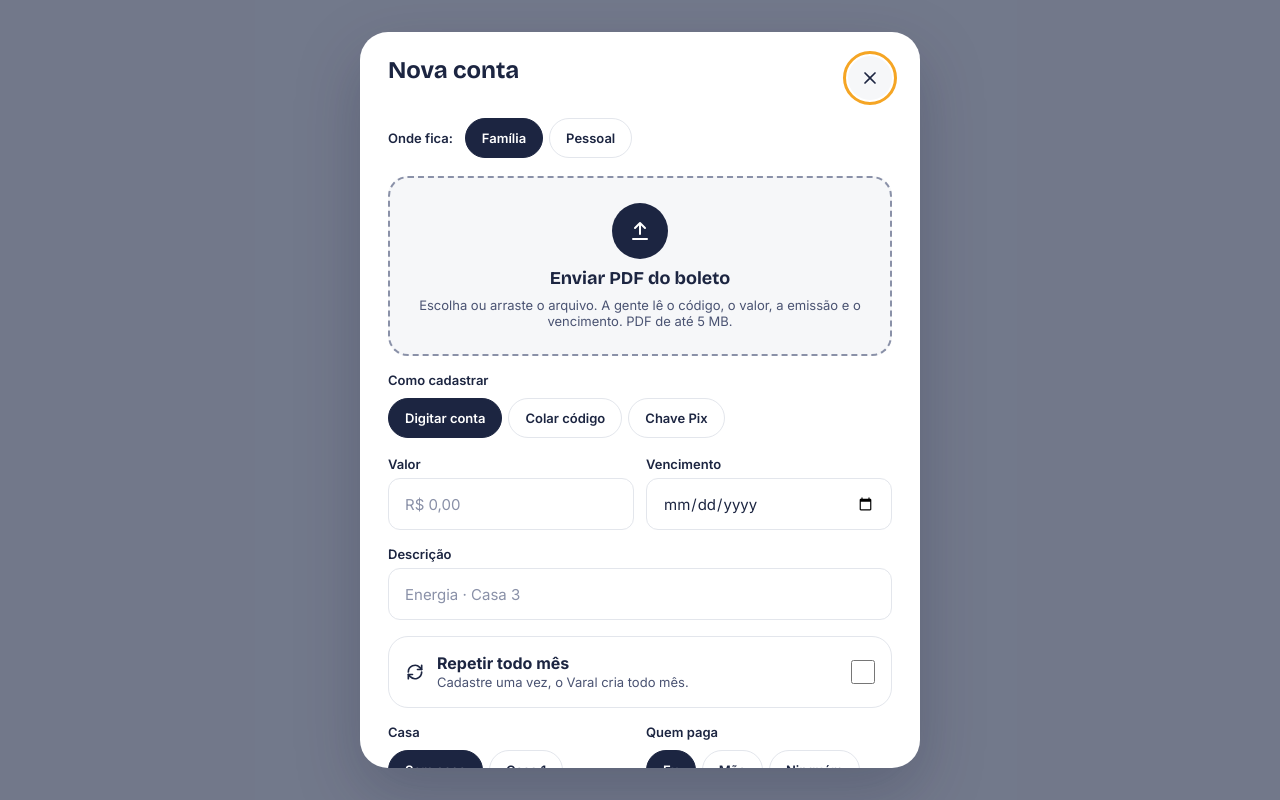
Test case: q19b: the API's 400 message shows next to Quem vê and nothing navigates
Type "287,43" into the field labelled "Valor" at (511, 504), box [405, 479, 617, 529]
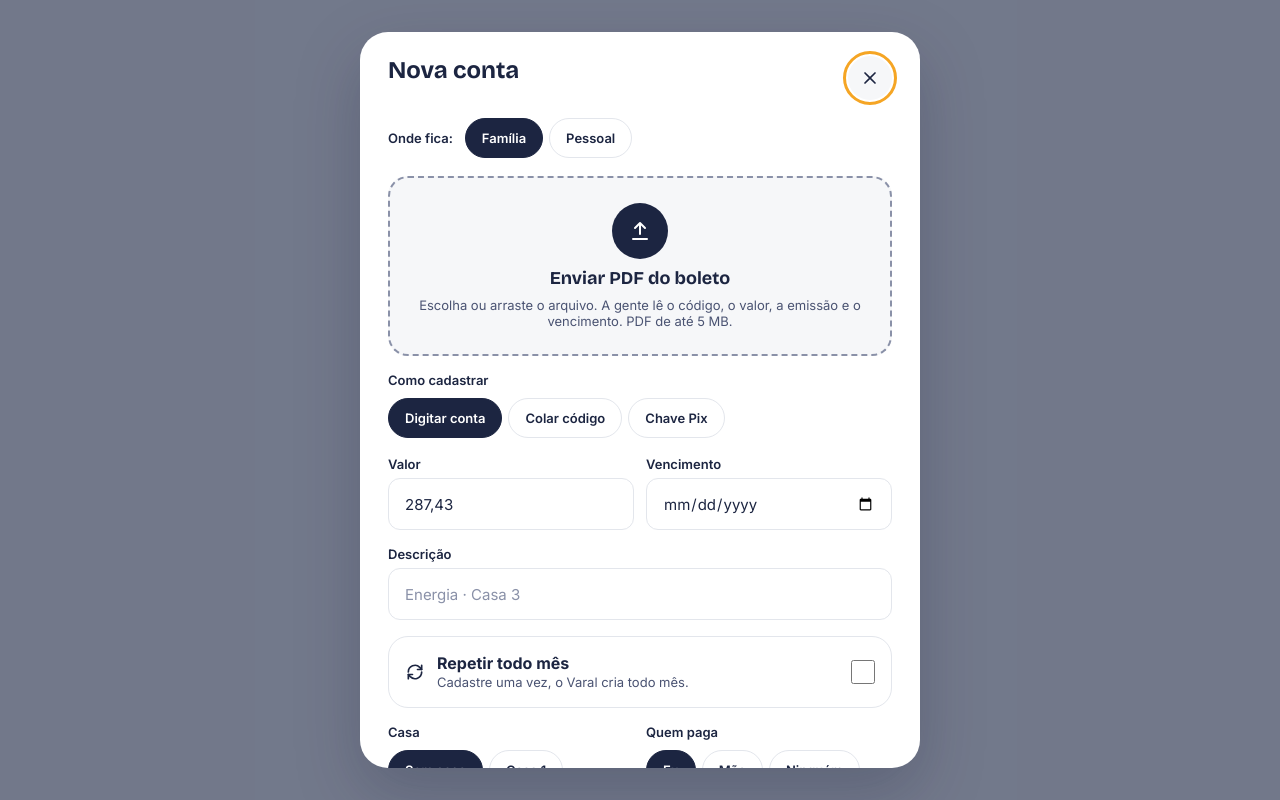
Type "2026-11-20" into the date field labelled "Vencimento" at (769, 504), box [663, 479, 875, 529]
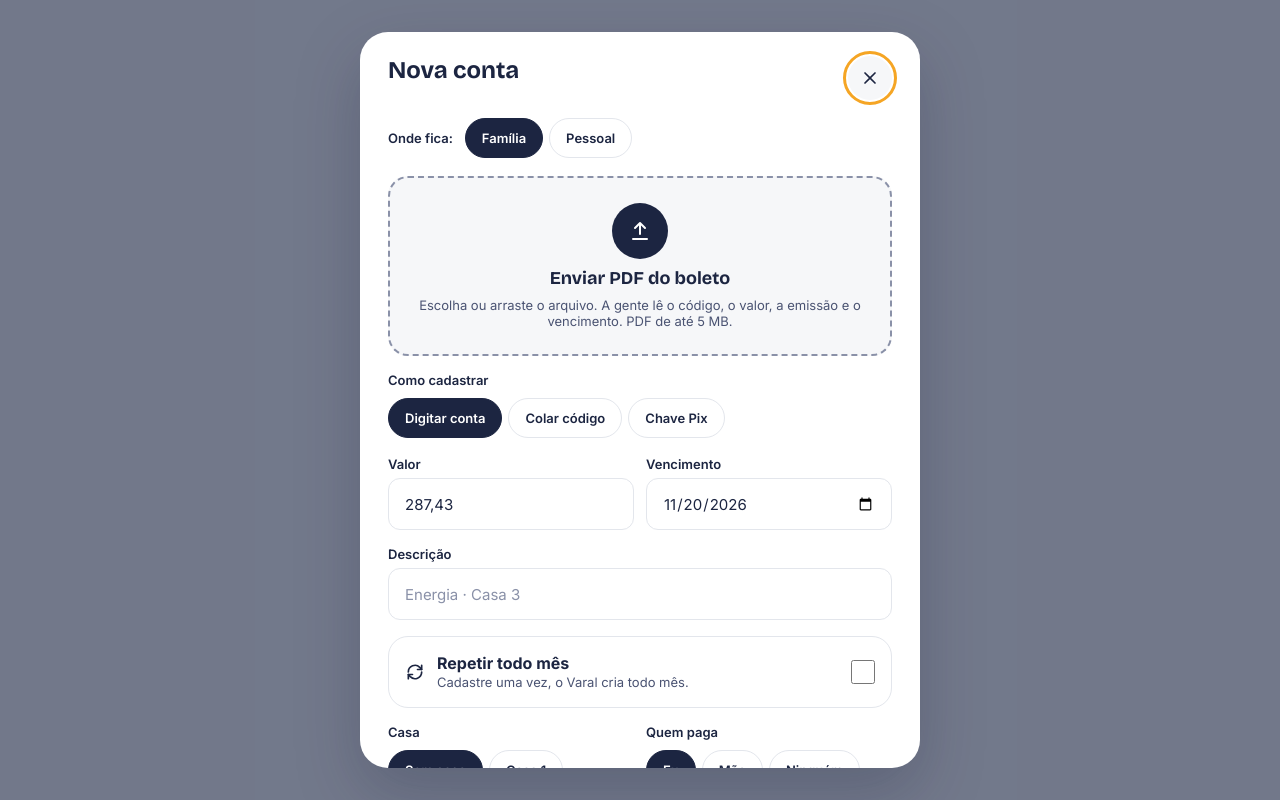
Type "Energia" into the field labelled "Descrição" at (640, 594), box [405, 569, 875, 619]
(page scrolled)
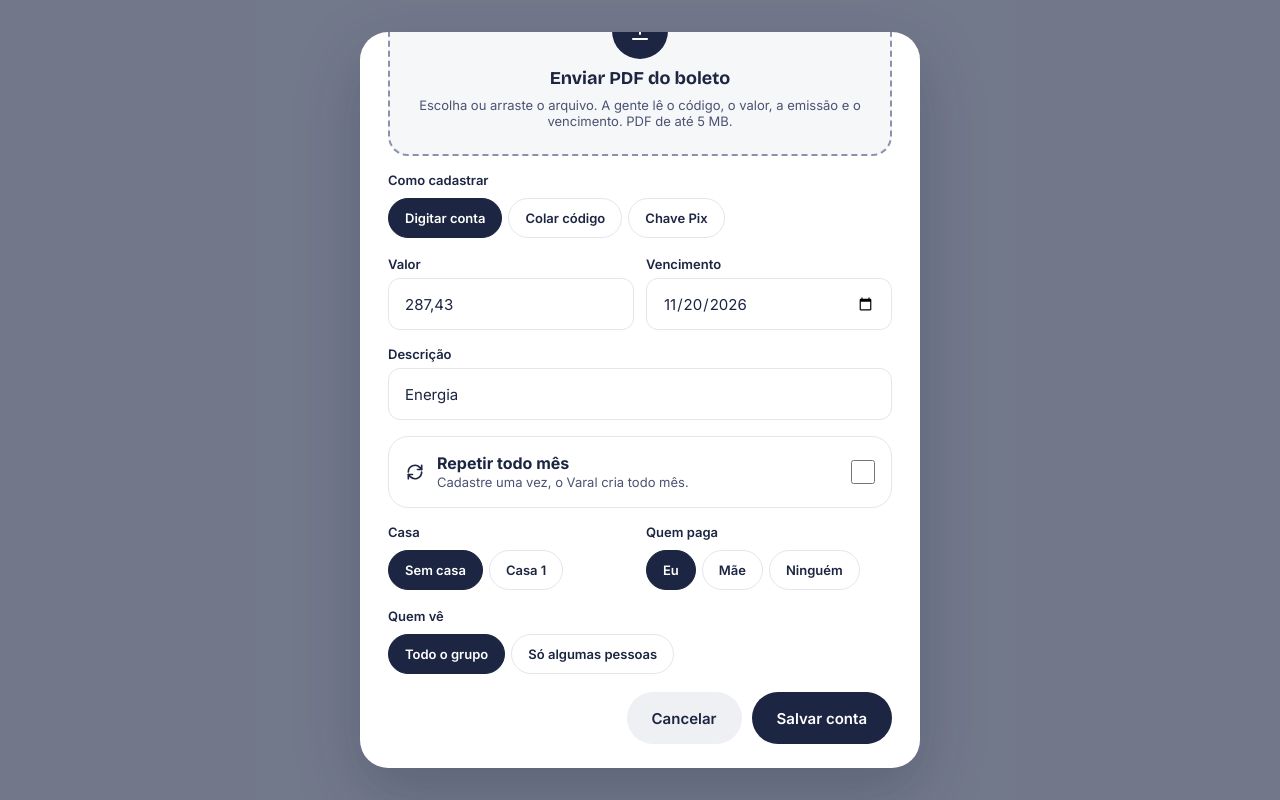
Click the button "Salvar conta" at (822, 718), box [752, 692, 892, 744]
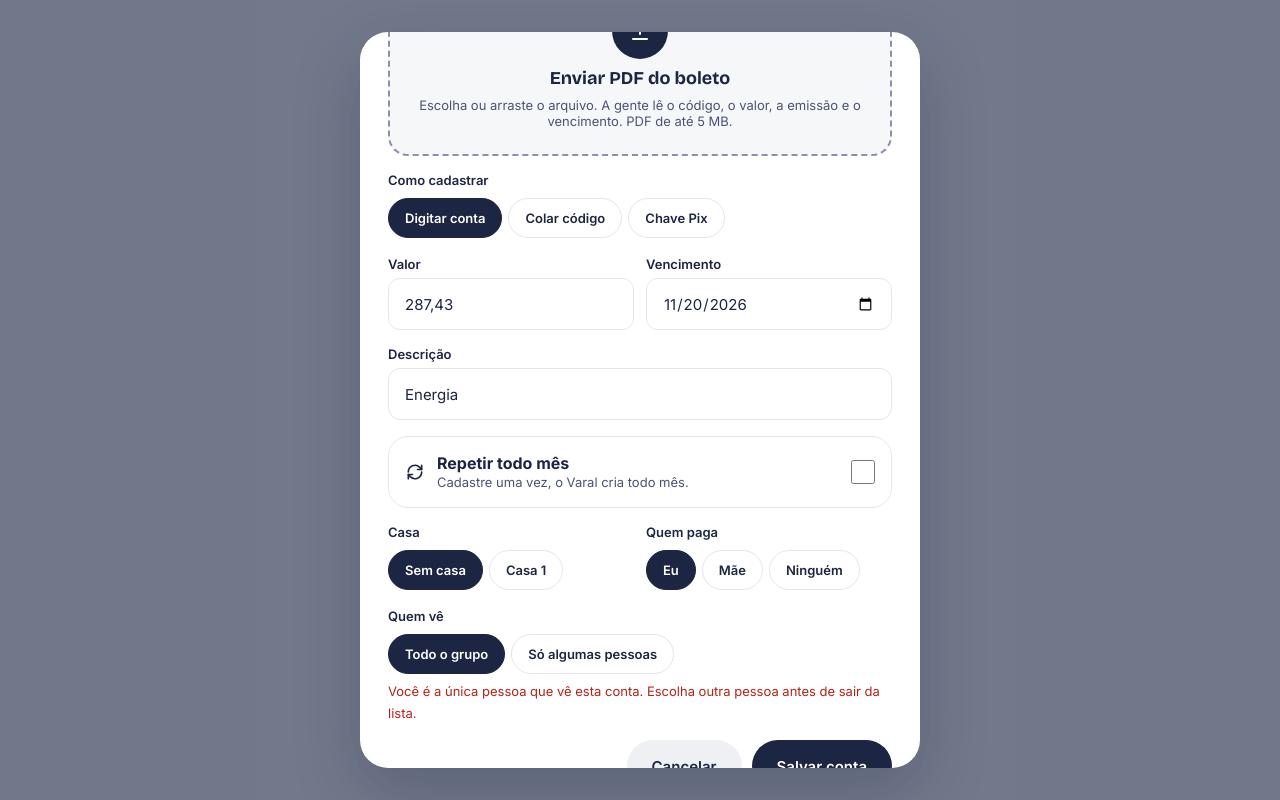
expect the text "Você é a única pessoa que vê esta conta. Escolha outra pessoa antes de sair da lista." is shown: met, box [388, 683, 880, 721]
